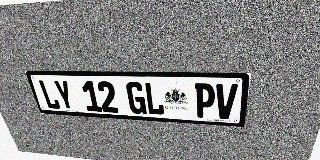1: (80, 81, 102, 112)
2: (96, 81, 119, 113)
G: (125, 82, 147, 114)
L: (37, 80, 61, 109), (144, 82, 165, 115)
P: (195, 83, 216, 118)
V: (214, 84, 238, 119)
Y: (52, 80, 76, 110)
